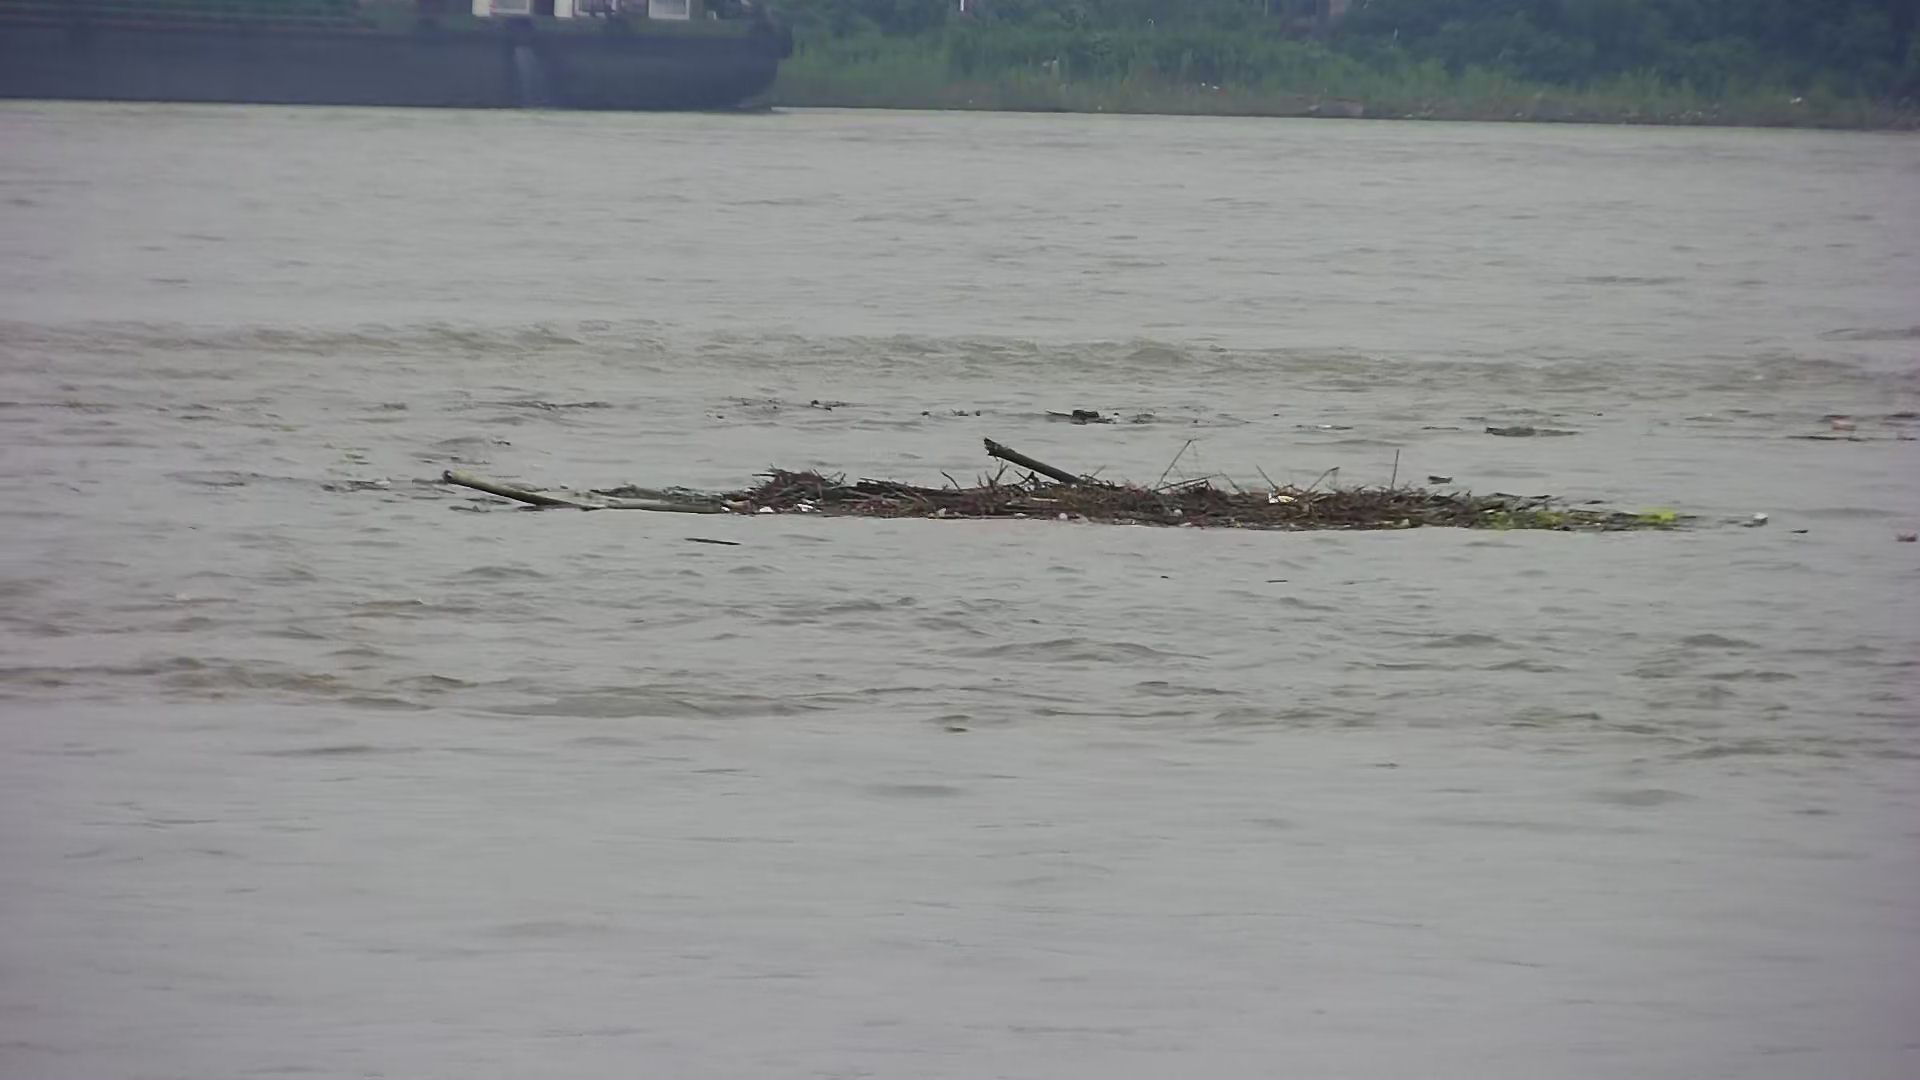grass: (421, 419, 1697, 534)
ship: (15, 3, 793, 117)
